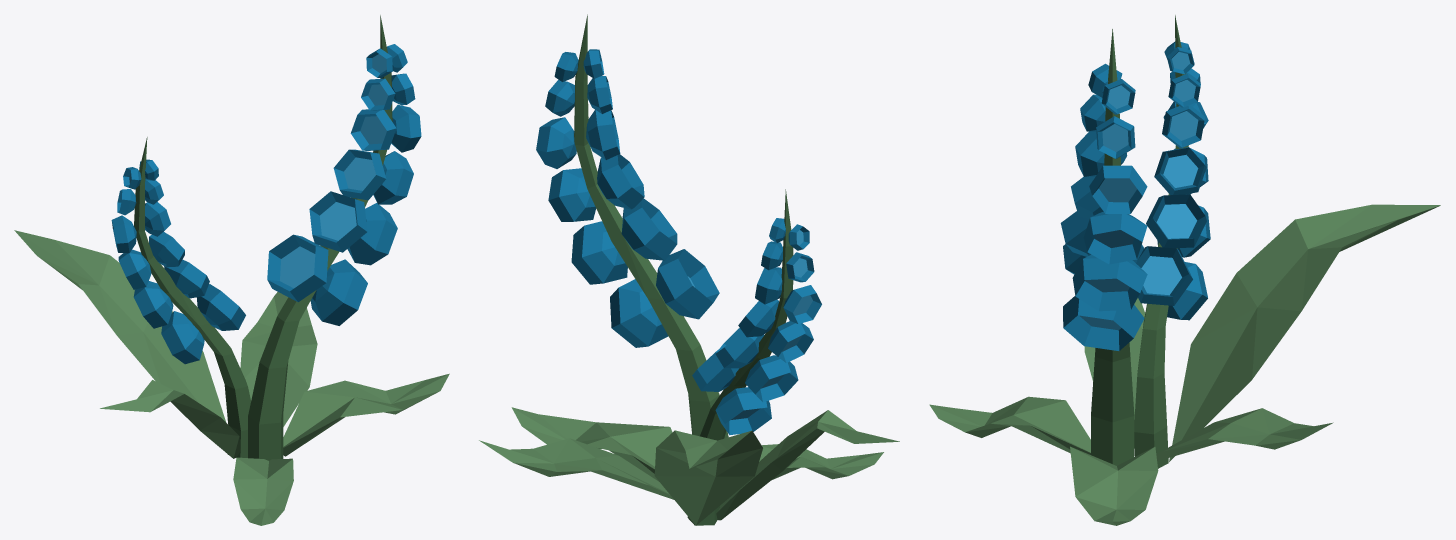
File: flower_2.obj
3 views of the same model, side by side, from view 1: azimuth 30°, elevation 25°; view 2: azimuth 150°, elevation 25°; view 3: azimuth 270°, elevation 25° (orthographic). The views are drawn at different scales.
Visible parts, largest first — view 1: flower_2; view 2: flower_2; view 3: flower_2.
Part boxes in pixels (bbox=[...]): flower_2: bbox=[14, 15, 449, 525]; flower_2: bbox=[479, 14, 899, 525]; flower_2: bbox=[929, 15, 1440, 525].
Size of the model in its own units: 0.7177 by 0.8223 by 0.7477.
